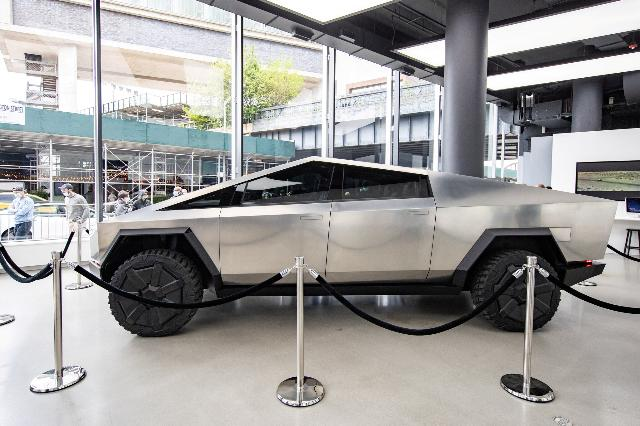tesla: (96, 156, 620, 339)
